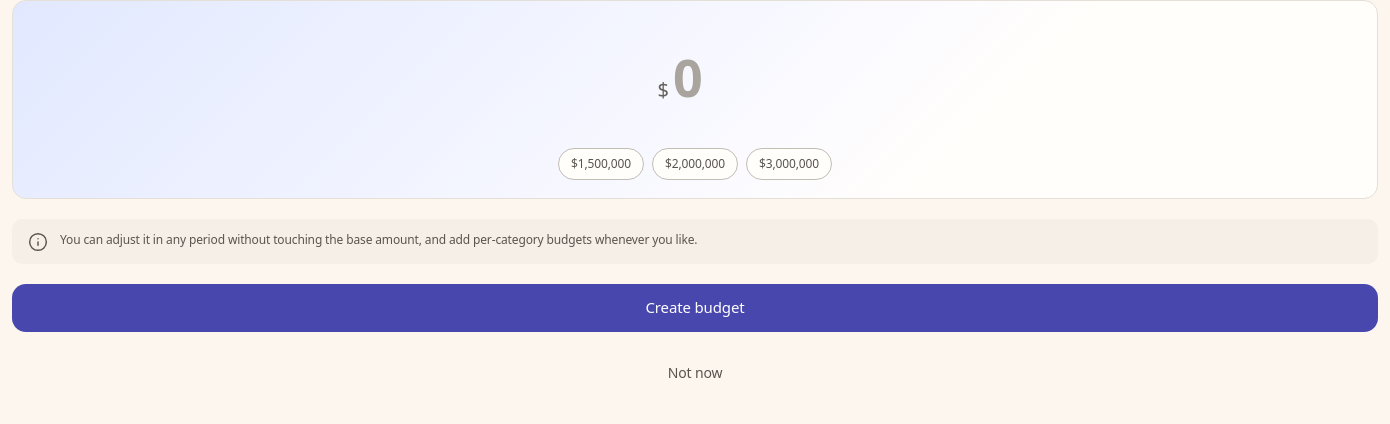
Test: GlobalBudgetForm › rejects an empty or zero amount
Click the 1st button named "Create budget".
click(695, 308)  # box [12,284,1378,332]
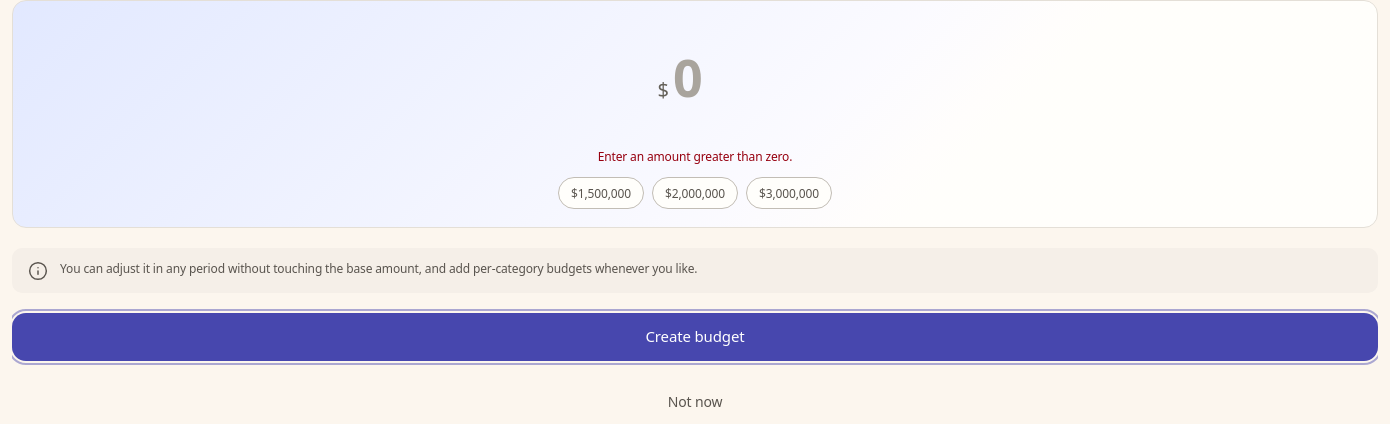
Expected: the message reads "Enter an amount greater than zero.", [598,148,792,165]
